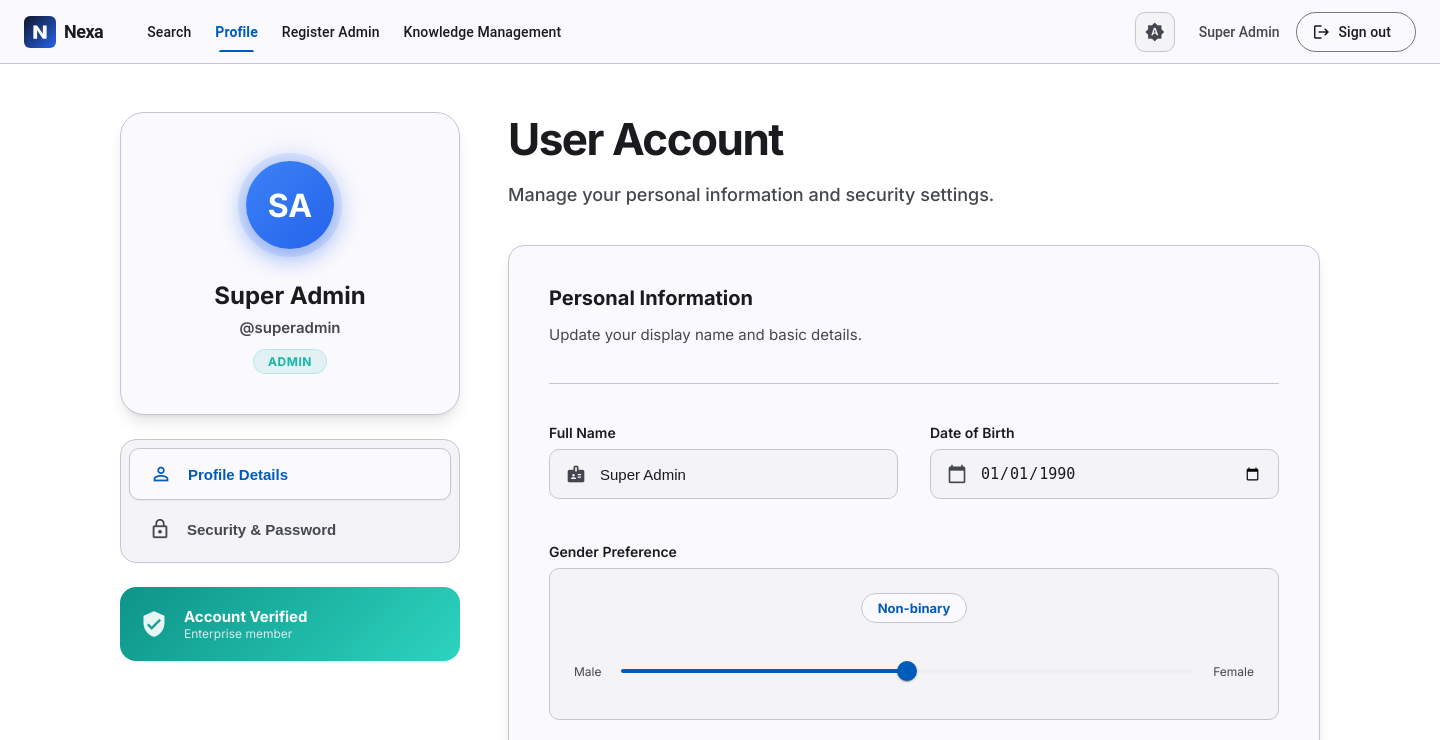
Test: Profile Management › should change the password with the correct current password keeps the admin logged in and shows a success message
Click the button "Security & Password" at (290, 529), box [129, 504, 451, 554]
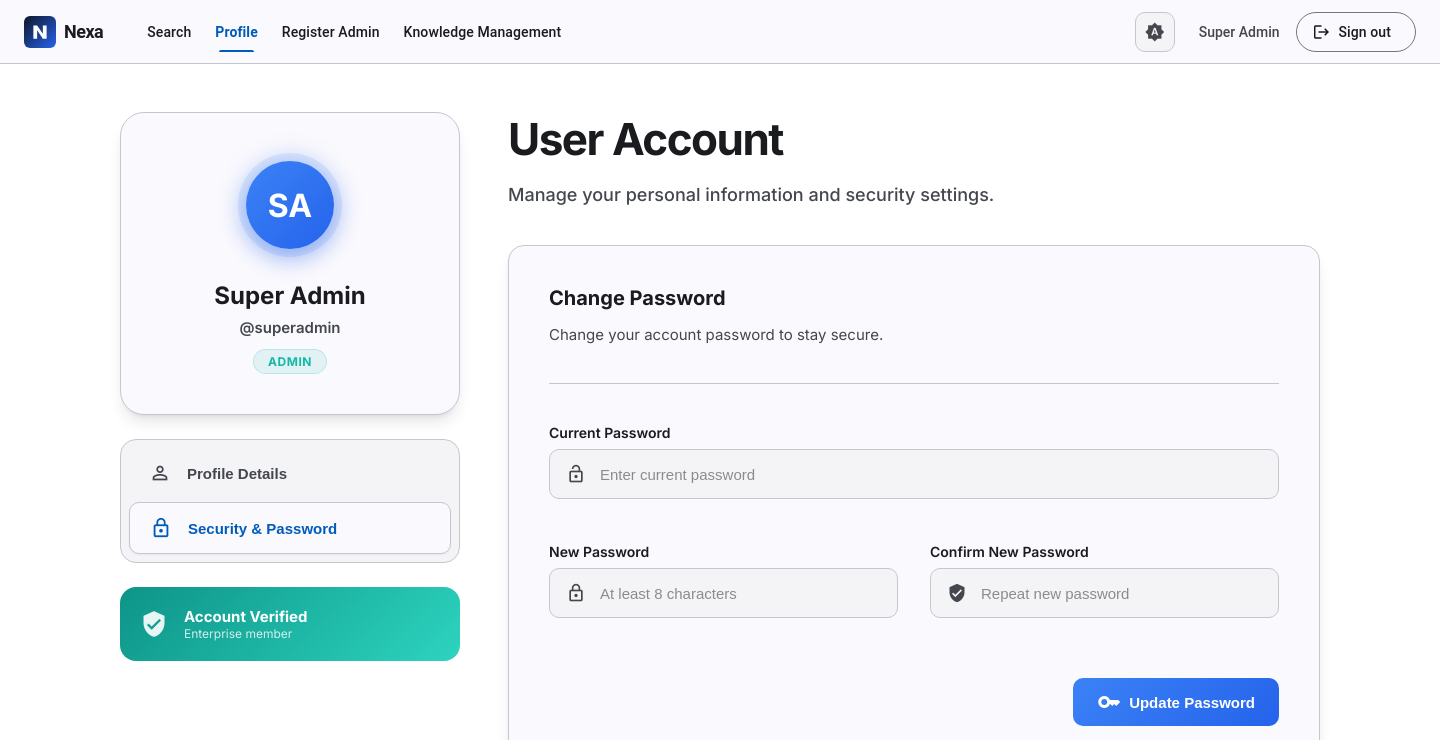
Type "superadmin123" into the password field with id "s-current" at (930, 474), box [598, 450, 1262, 498]
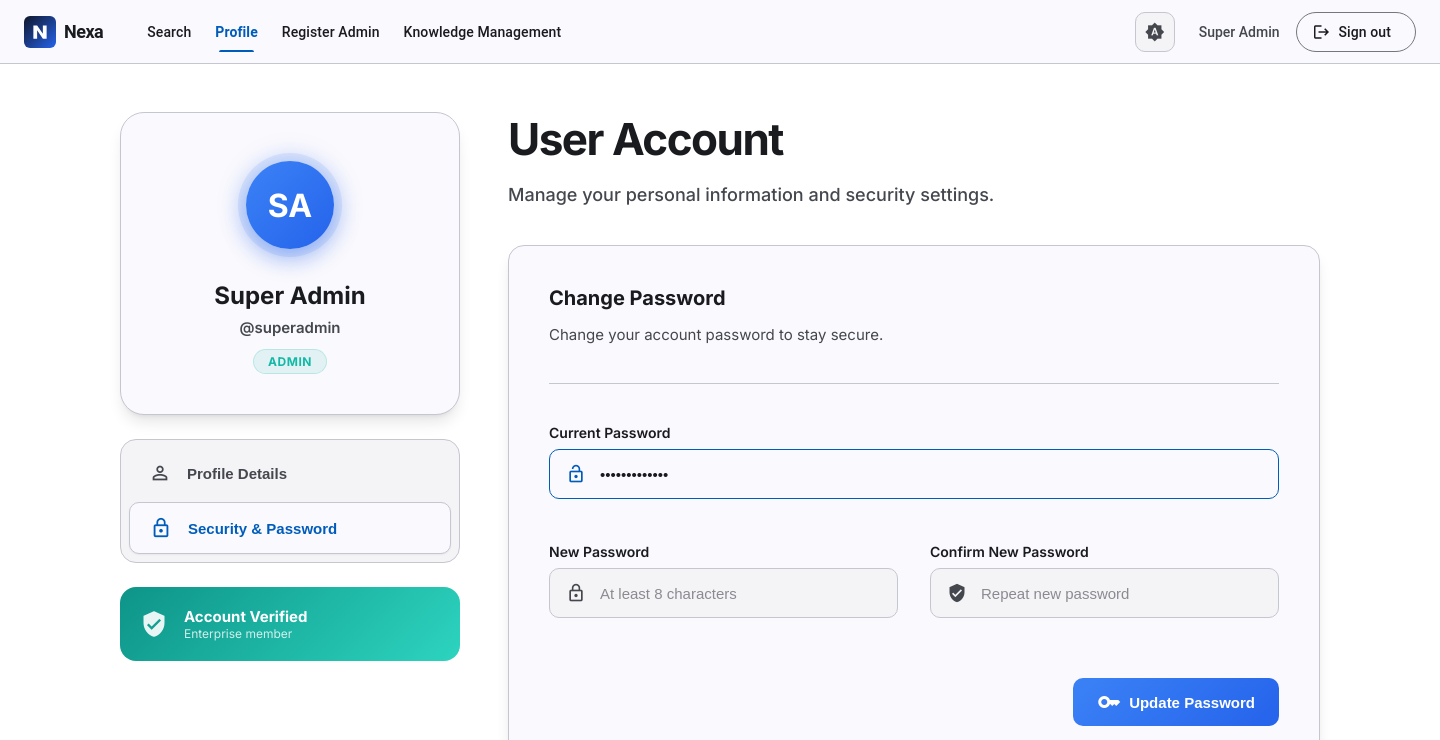
Type "newsecurepassword" into the password field with id "s-new" at (740, 593), box [598, 569, 881, 617]
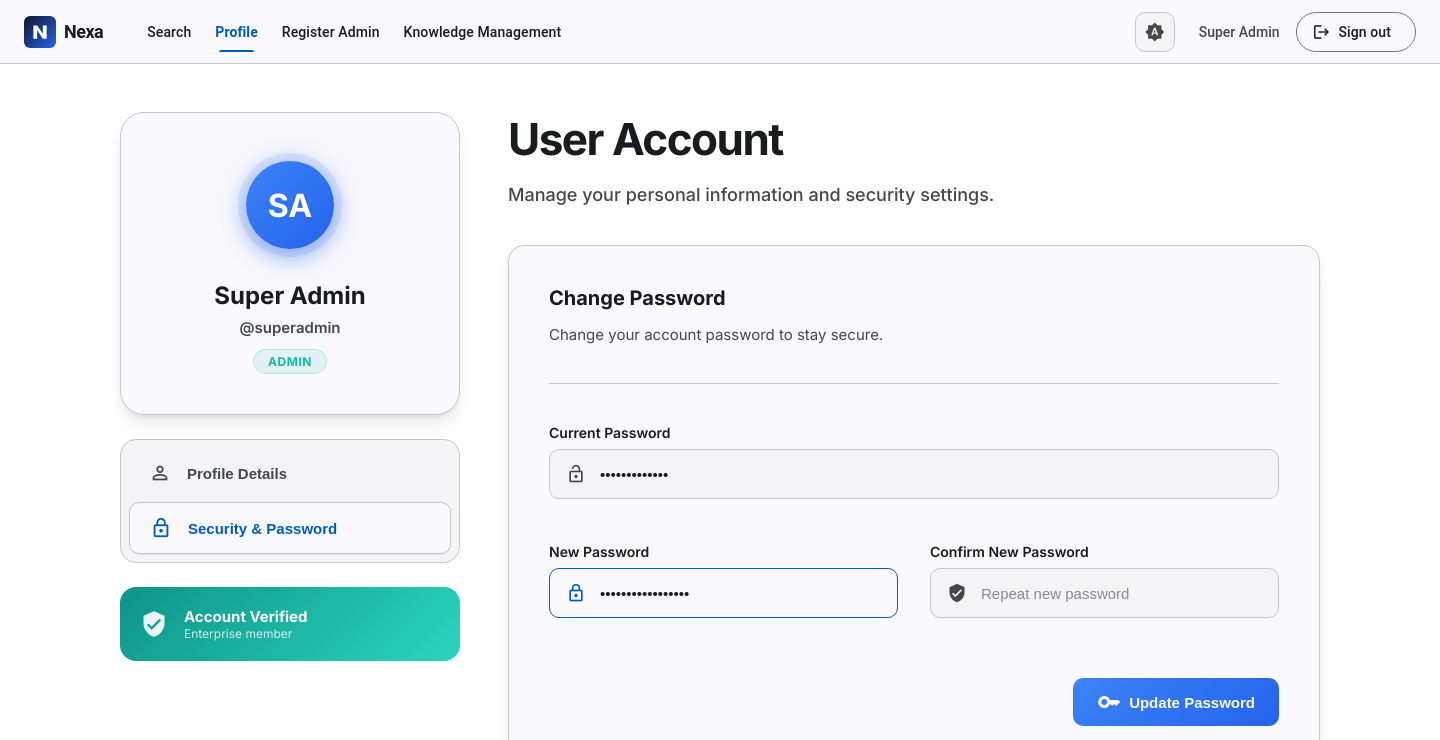
Type "newsecurepassword" into the password field with id "s-confirm" at (1121, 593), box [979, 569, 1262, 617]
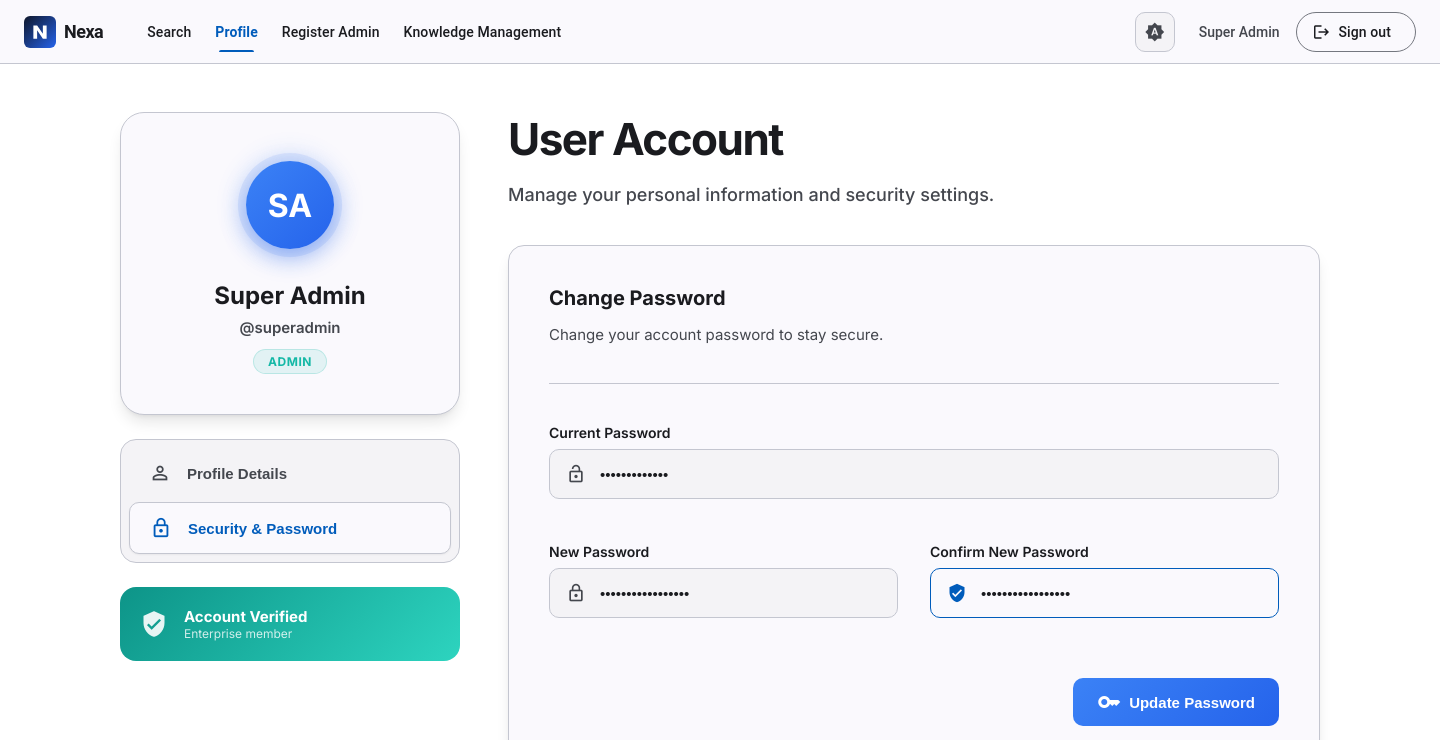
Click the button "Update Password" at (1176, 702), box [1073, 678, 1279, 726]
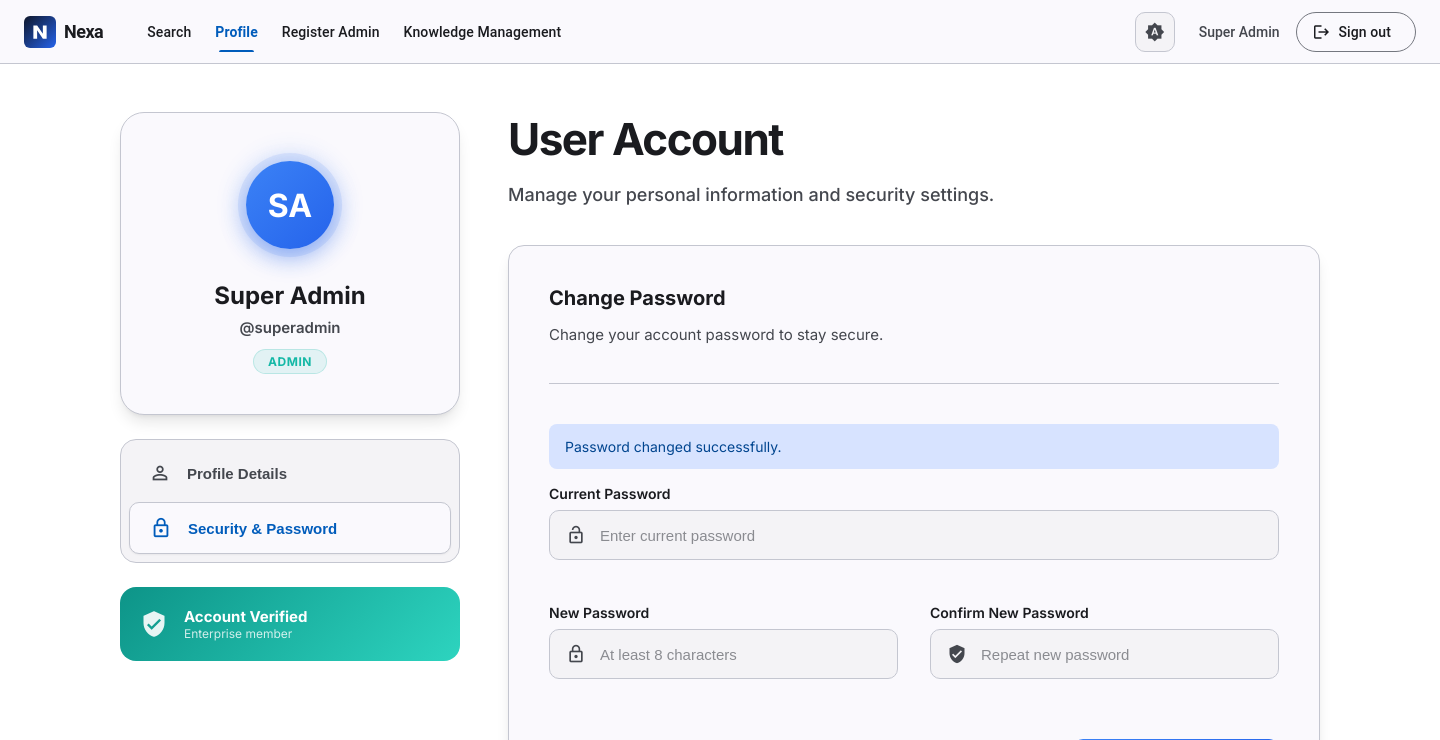
Expected: the text "Password changed successfully" is shown, [565, 438, 782, 455]
